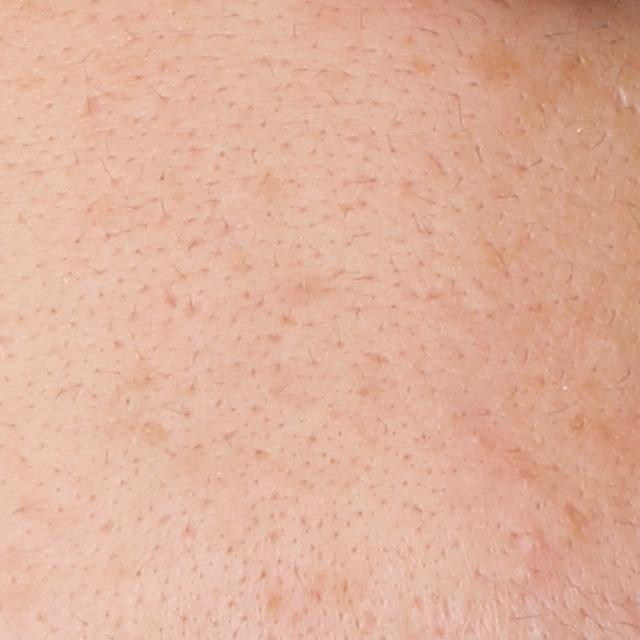atrophic_scar: (601, 83, 639, 116), (76, 91, 109, 122), (139, 421, 172, 449)
